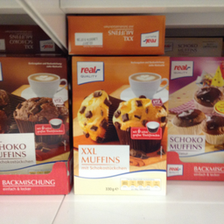cake: (72, 54, 168, 198), (1, 55, 69, 196), (166, 51, 224, 182)
